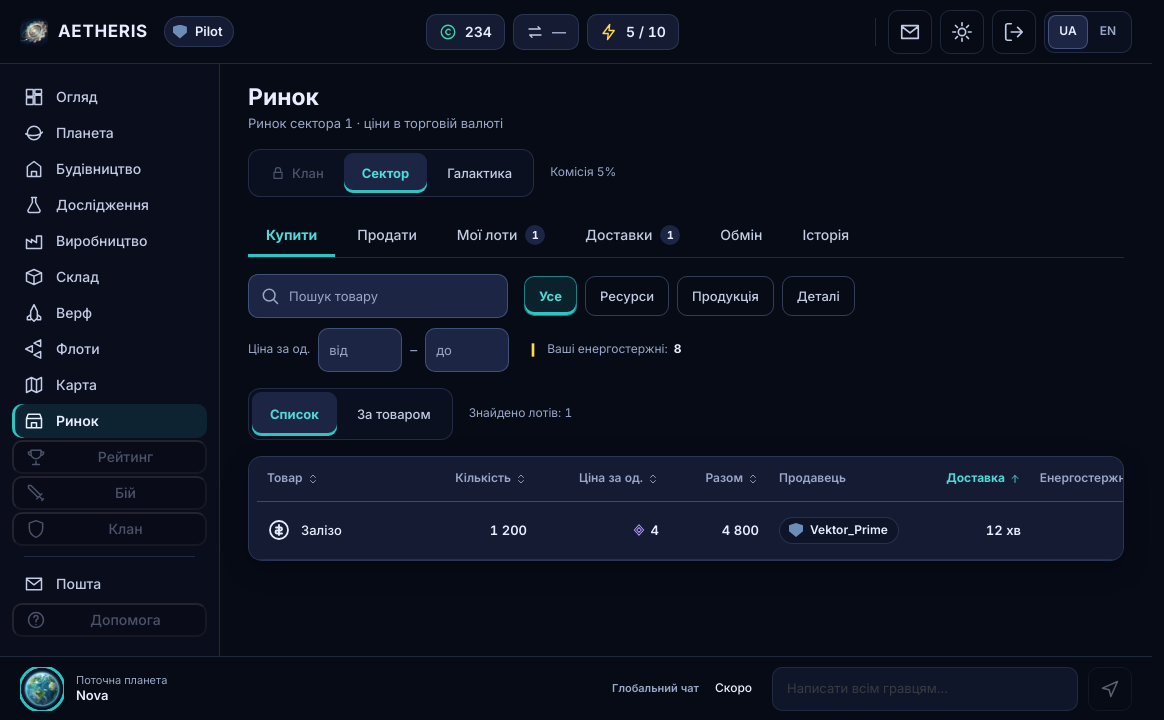
my lots, deliveries, exchange and history › shows the deliveries with the timer and the state
This screenshot has width=1164, height=720.
Click the tab "Доставки 1".
click(633, 235)  # box [567, 213, 698, 257]
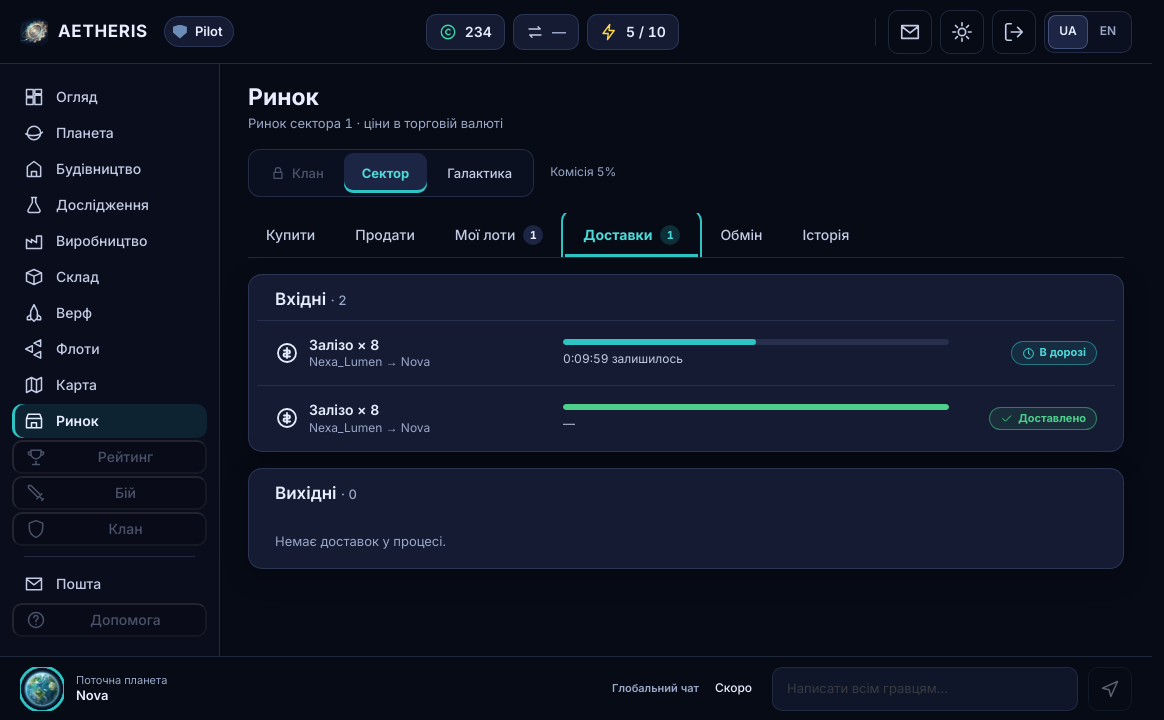
Expected: the text "В дорозі" is shown, [1011, 341, 1097, 365]
Expected: the text "Доставлено" is shown, [989, 407, 1097, 430]
Expected: the text "0:09:59 залишилось" is shown, [563, 351, 683, 366]
